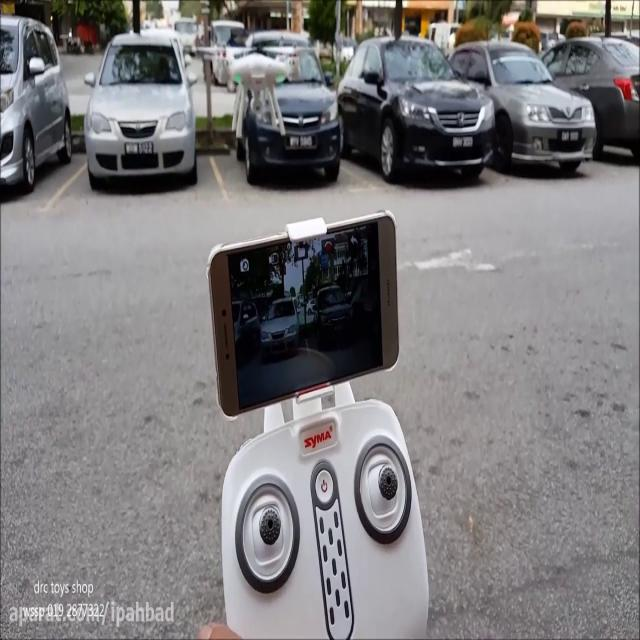drone: (196, 40, 318, 136)
